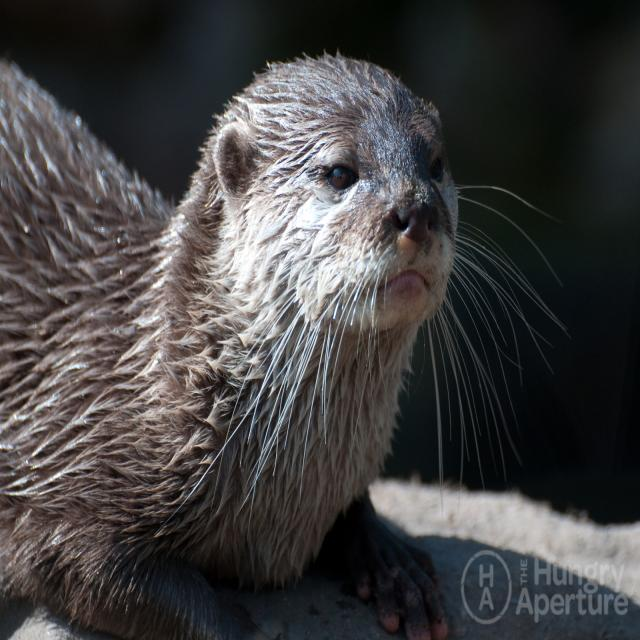otter: (30, 56, 459, 600)
